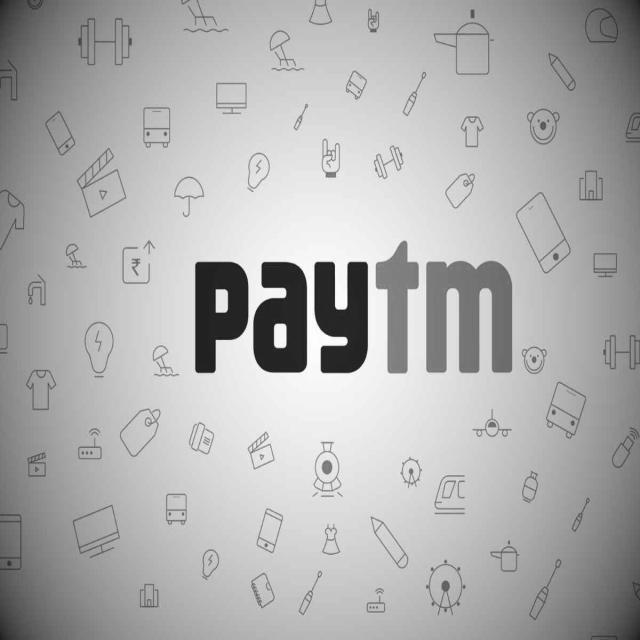fully_visible: (189, 234, 516, 380)
